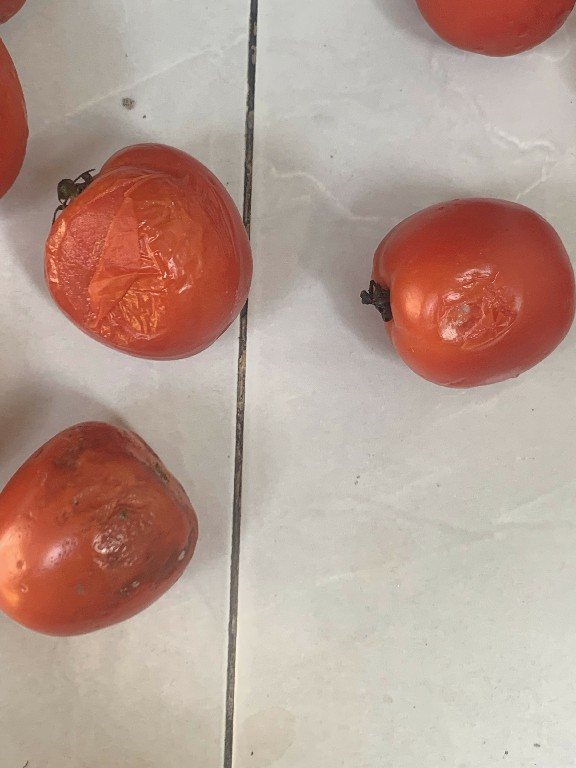NG: (28, 136, 262, 369), (0, 418, 221, 661), (357, 174, 576, 415)
